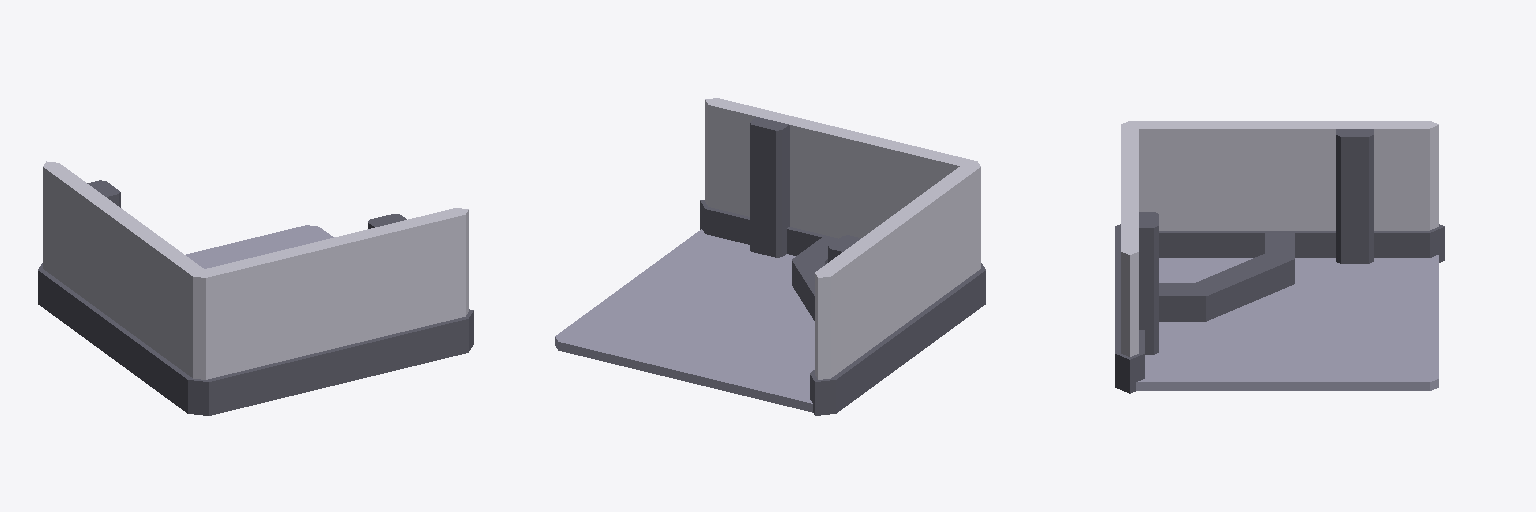
Rendered from corner_01.obj.
The picture shows the model from 3 angles: view 1: azimuth 30°, elevation 25°; view 2: azimuth 150°, elevation 25°; view 3: azimuth 270°, elevation 25°; orthographic projection.
Visible parts, largest first — view 1: corner_01_0, wall_02_2, wall_02_3, floor_01_1; view 2: floor_01_1, corner_01_0, wall_02_2, wall_02_3, wall_borderCornerDiagonal_6; view 3: floor_01_1, wall_02_3, corner_01_0, wall_02_2, wall_borderCornerDiagonal_6.
Boxes of the visible parts, x1=… form: corner_01_0: x1=113, y1=217, x2=340, y2=415; wall_02_2: x1=325, y1=208, x2=473, y2=383; wall_02_3: x1=38, y1=161, x2=133, y2=358; floor_01_1: x1=186, y1=225, x2=333, y2=268; floor_01_1: x1=555, y1=229, x2=814, y2=412; corner_01_0: x1=835, y1=130, x2=985, y2=358; wall_02_2: x1=700, y1=98, x2=847, y2=257; wall_02_3: x1=810, y1=217, x2=910, y2=415; wall_borderCornerDiagonal_6: x1=792, y1=238, x2=910, y2=325; floor_01_1: x1=1136, y1=255, x2=1438, y2=390; wall_02_3: x1=1275, y1=121, x2=1444, y2=263; corner_01_0: x1=1115, y1=121, x2=1288, y2=289; wall_02_2: x1=1115, y1=184, x2=1158, y2=393; wall_borderCornerDiagonal_6: x1=1116, y1=232, x2=1294, y2=321.
Bounding box in the file's own units: 2.21 × 1 × 2.21.